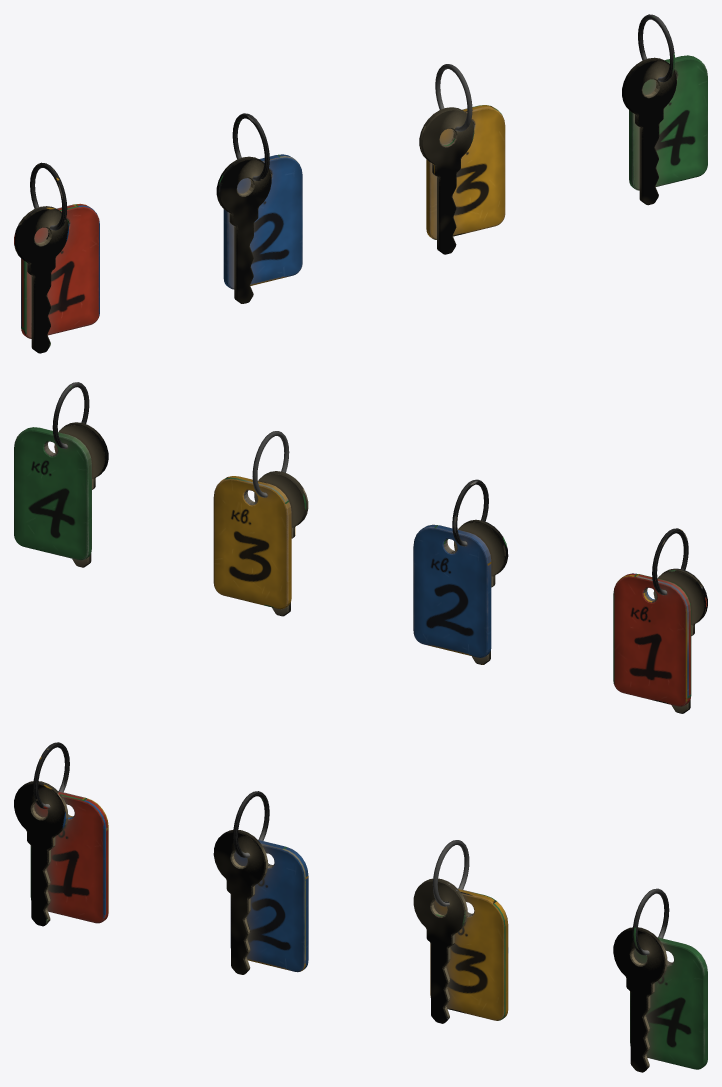
File: FlatKeys.fbx
3 views of the same model, one above another, from view 1: azimuth 30°, elevation 25°; view 2: azimuth 150°, elevation 25°; view 3: azimuth 330°, elevation 25° (orthographic).
Parts seen in each view (by area): view 1: Key_3, Key_2, Key_1, Key_4; view 2: Key_2, Key_3, Key_1, Key_4; view 3: Key_3, Key_2, Key_1, Key_4.
Boxes of the visible parts, box(x1,y1,x2,y2) form: Key_3: box(419, 64, 505, 254); Key_2: box(216, 113, 302, 303); Key_1: box(14, 162, 99, 353); Key_4: box(622, 14, 707, 205); Key_2: box(413, 479, 508, 664); Key_3: box(213, 431, 308, 616); Key_1: box(613, 528, 707, 713); Key_4: box(14, 382, 108, 567); Key_3: box(413, 840, 508, 1023); Key_2: box(213, 791, 308, 974); Key_1: box(14, 742, 108, 926); Key_4: box(613, 888, 707, 1072).
Bounding box in the file's own units: 0.275 × 0.0693 × 0.0238.
